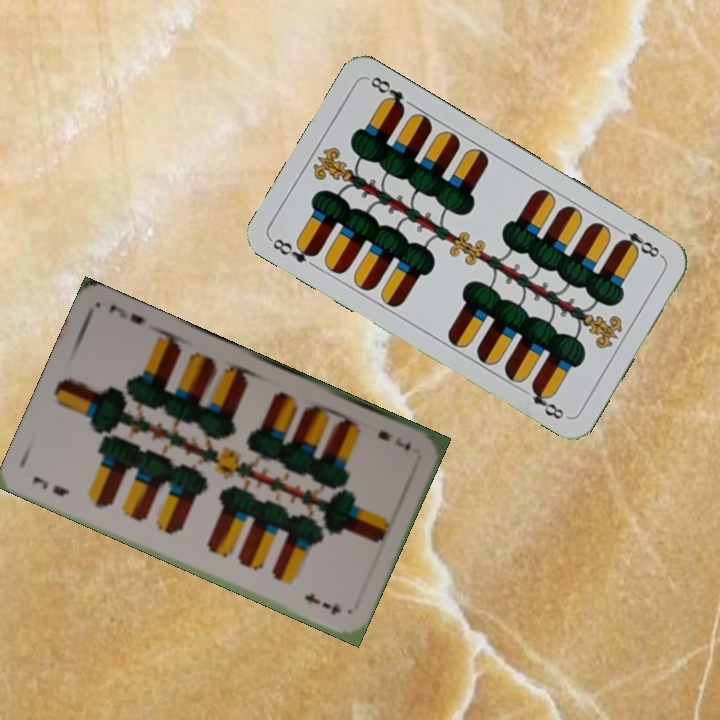E7: (28, 472, 72, 500), (373, 426, 414, 453)
E8: (613, 223, 666, 261), (267, 234, 321, 266)
